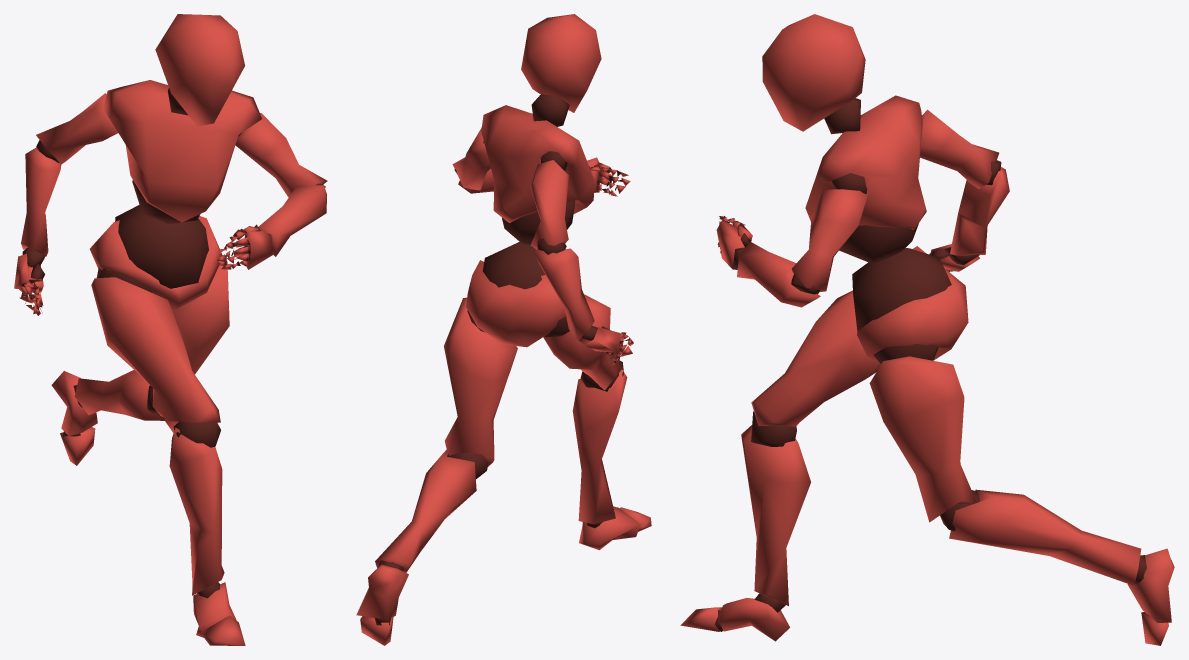
3 views of the same model, side by side, from view 1: azimuth 30°, elevation 25°; view 2: azimuth 150°, elevation 25°; view 3: azimuth 270°, elevation 25° (orthographic). The views are drawn at different scales.
Parts seen in each view (by area): view 1: Beta_Surface; view 2: Beta_Surface; view 3: Beta_Surface.
Boxes of the visible parts, x1,y1,x2,y2 form: Beta_Surface: [14, 14, 327, 645]; Beta_Surface: [356, 14, 651, 645]; Beta_Surface: [680, 14, 1174, 645].
Bounding box in the file's own units: 6.2 × 14.17 × 10.12.
